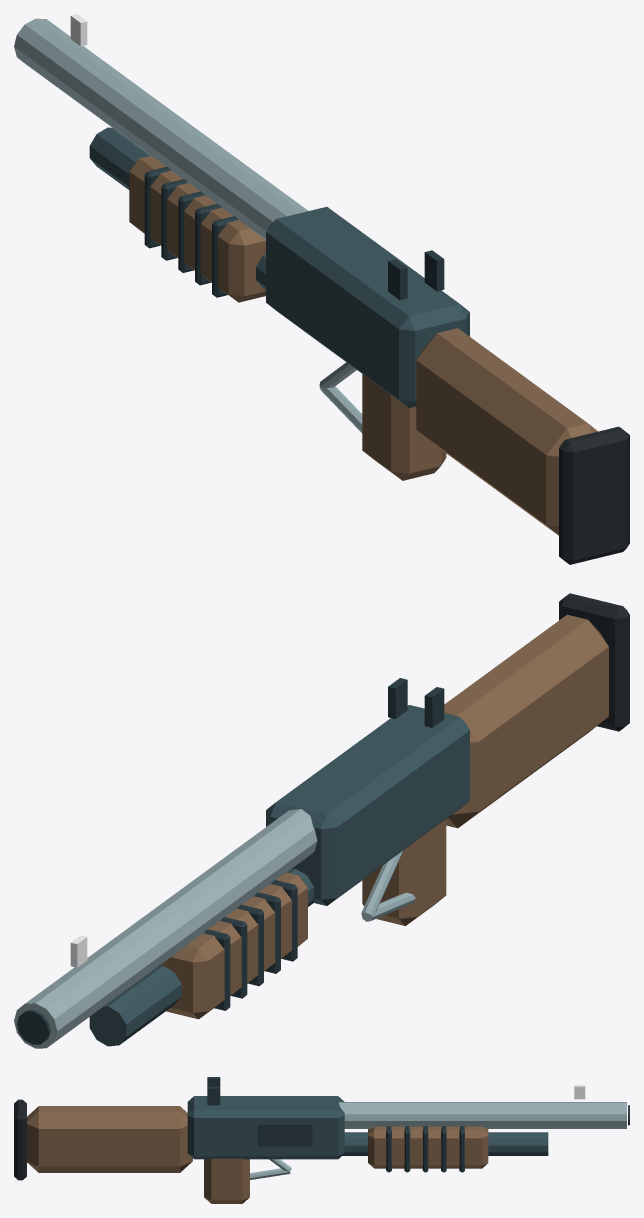
The model's file is shotgun.glb.
The picture shows the model from 3 angles, top to bottom: view 1: azimuth 30°, elevation 25°; view 2: azimuth 150°, elevation 25°; view 3: azimuth 270°, elevation 25°; orthographic projection. The views are drawn at different scales.
Visible parts, largest first — view 1: shotgun.Root_Wood, shotgun.Root_Navy, shotgun.Root_Steel, shotgun.Root_Rubber, shotgun.Pump_Wood, shotgun.Pump_Dark, shotgun.Root_Dark; view 2: shotgun.Root_Navy, shotgun.Root_Wood, shotgun.Root_Steel, shotgun.Pump_Wood, shotgun.Root_Rubber, shotgun.Pump_Dark, shotgun.Root_Dark; view 3: shotgun.Root_Wood, shotgun.Root_Navy, shotgun.Root_Steel, shotgun.Pump_Wood, shotgun.Root_Dark, shotgun.Pump_Dark, shotgun.Root_Rubber.
Part boxes in pixels (bbox=[...]): shotgun.Root_Wood: bbox=[362, 328, 597, 535]; shotgun.Root_Navy: bbox=[89, 127, 469, 407]; shotgun.Root_Steel: bbox=[14, 18, 362, 433]; shotgun.Root_Rubber: bbox=[559, 426, 629, 564]; shotgun.Pump_Wood: bbox=[129, 155, 265, 302]; shotgun.Pump_Dark: bbox=[144, 167, 238, 297]; shotgun.Root_Dark: bbox=[388, 250, 444, 300]; shotgun.Root_Navy: bbox=[89, 705, 469, 1046]; shotgun.Root_Wood: bbox=[362, 614, 608, 925]; shotgun.Root_Steel: bbox=[14, 809, 415, 1048]; shotgun.Pump_Wood: bbox=[159, 872, 307, 1019]; shotgun.Root_Rubber: bbox=[559, 593, 629, 731]; shotgun.Pump_Dark: bbox=[203, 880, 297, 1010]; shotgun.Root_Dark: bbox=[17, 678, 444, 1044]; shotgun.Root_Wood: bbox=[27, 1106, 249, 1203]; shotgun.Root_Navy: bbox=[187, 1096, 548, 1159]; shotgun.Root_Steel: bbox=[250, 1102, 626, 1179]; shotgun.Pump_Wood: bbox=[368, 1126, 488, 1168]; shotgun.Root_Dark: bbox=[207, 1077, 629, 1146]; shotgun.Pump_Dark: bbox=[386, 1126, 464, 1172]; shotgun.Root_Rubber: bbox=[14, 1099, 26, 1180].
Bounding box in the file's own units: 0.1 × 0.2465 × 1.18.
